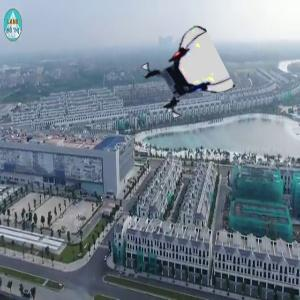drone: (145, 36, 226, 117)
